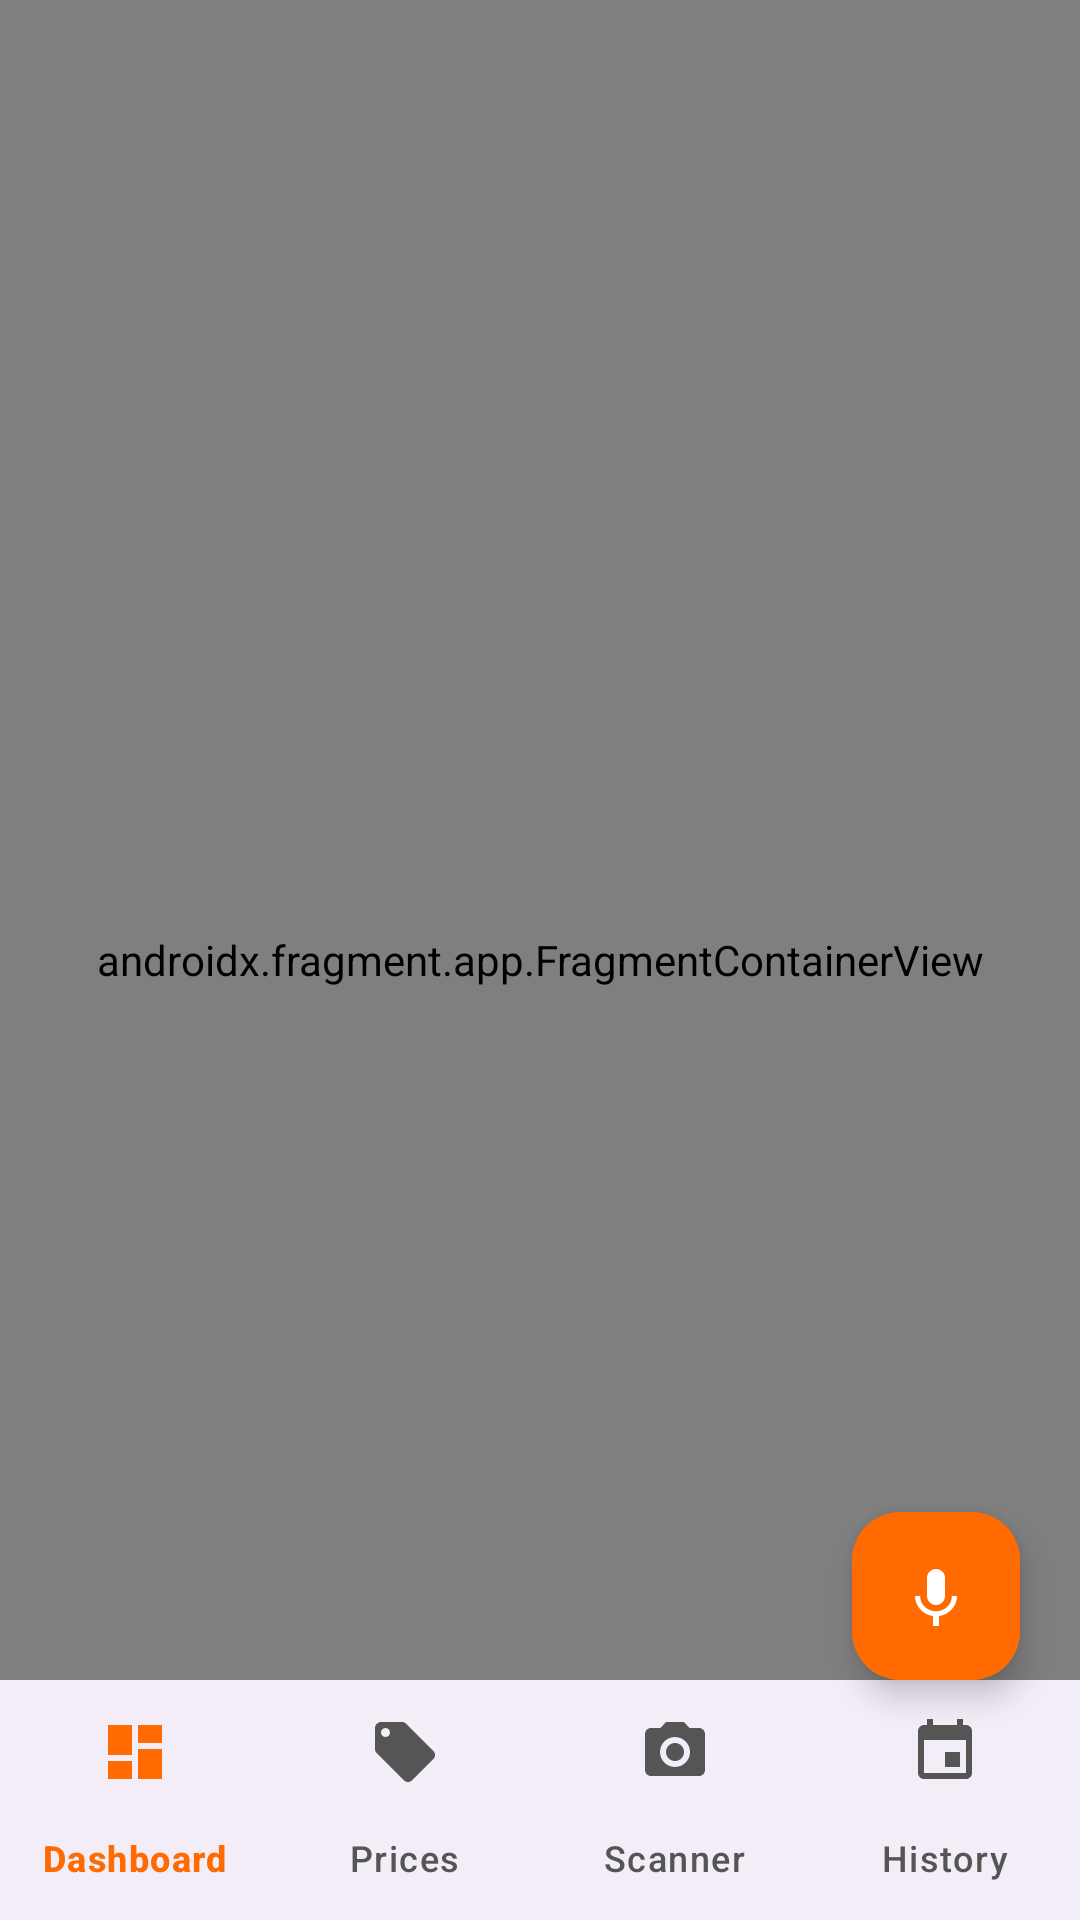

Icons on this 1080 × 1920 Android screen, each with its box as (x1, y1, x2, y2):
Voice command: (852, 1512, 1020, 1680)
